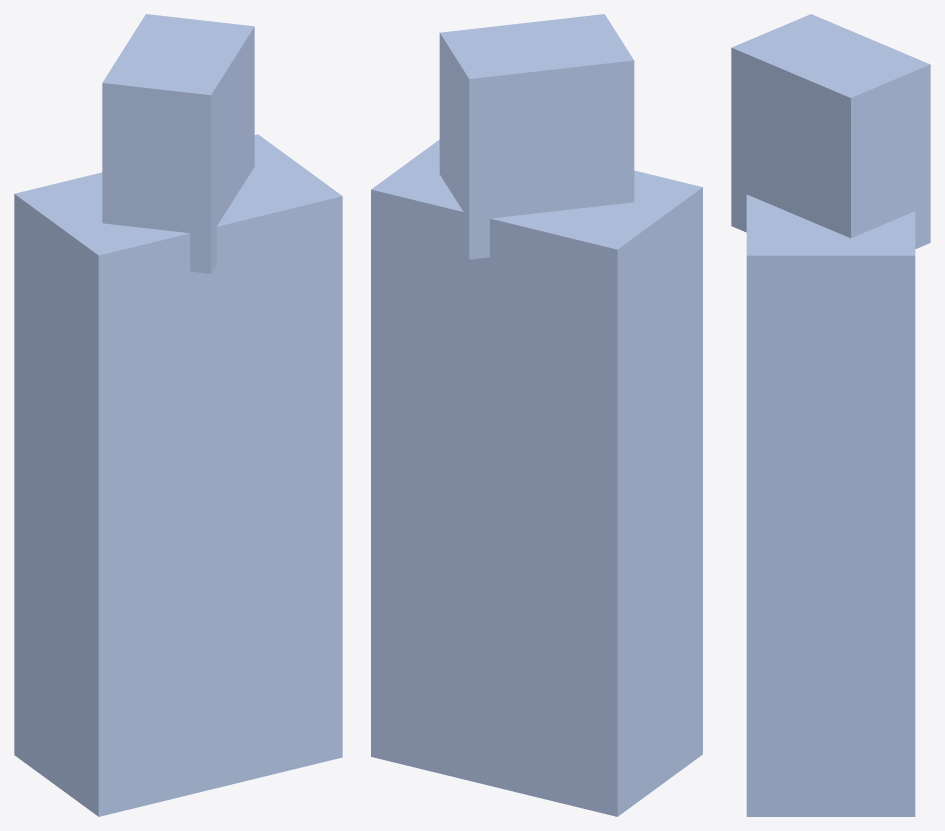
The model's file is E_MayflowerPhantom.fbx.
3 views of the same model, side by side, from view 1: azimuth 30°, elevation 25°; view 2: azimuth 150°, elevation 25°; view 3: azimuth 270°, elevation 25° (orthographic).
Visible parts, largest first — view 1: E_MayflowerPhantom; view 2: E_MayflowerPhantom; view 3: E_MayflowerPhantom.
Boxes of the visible parts, box(x1,y1,x2,y2) form: E_MayflowerPhantom: box(14, 14, 342, 816); E_MayflowerPhantom: box(371, 14, 702, 816); E_MayflowerPhantom: box(731, 14, 930, 816).
Bounding box in the file's own units: 0.5 × 1.38 × 0.3536.
